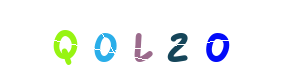0: (82, 0, 162, 80)
2: (123, 0, 203, 80)
L: (108, 0, 188, 80)
O: (177, 0, 257, 80)
Q: (25, 0, 105, 80)
